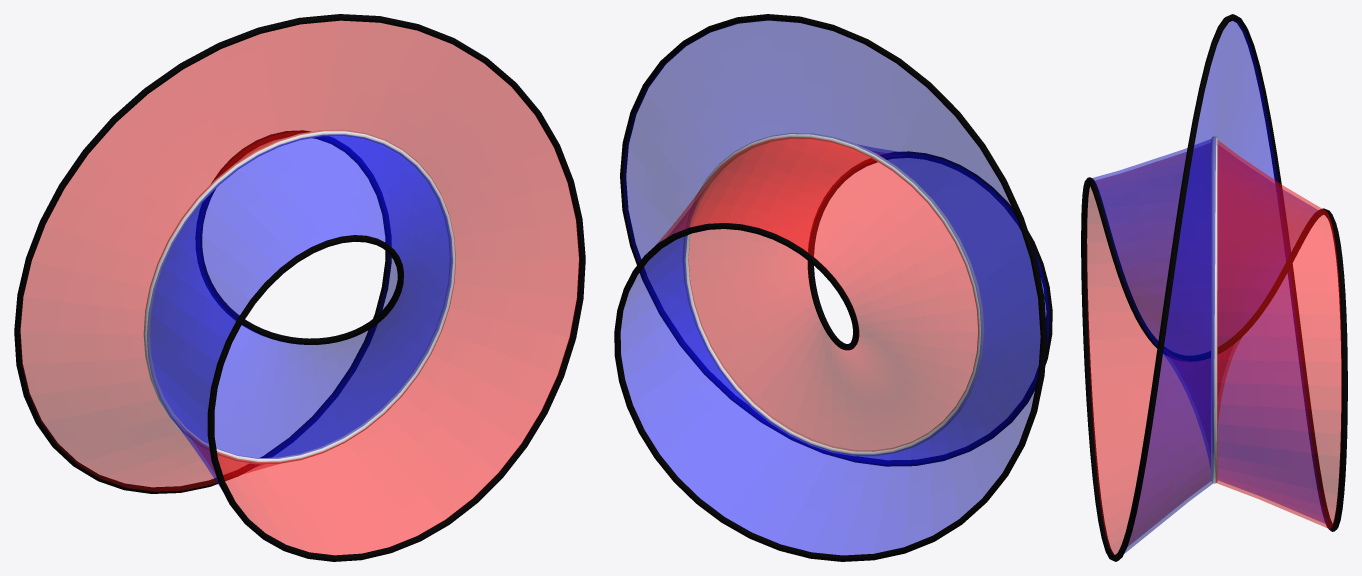
Rendered from l3_1_website.glb.
3 renders of one model, left to right at view 1: azimuth 30°, elevation 25°; view 2: azimuth 150°, elevation 25°; view 3: azimuth 270°, elevation 25°, orthographic. The views are drawn at different scales.
Visible parts, largest first — view 1: l3_1, boundary, singular_locus; view 2: l3_1, boundary, singular_locus; view 3: l3_1, boundary, singular_locus.
Boxes of the visible parts, box(x1,y1,x2,y2) form: l3_1: box(20, 20, 579, 555); boundary: box(14, 14, 585, 561); singular_locus: box(143, 129, 455, 464); l3_1: box(620, 20, 1049, 555); boundary: box(614, 14, 1052, 561); singular_locus: box(682, 133, 984, 456); l3_1: box(1086, 20, 1341, 554); boundary: box(1081, 14, 1347, 561); singular_locus: box(1211, 136, 1217, 483).
Bounding box in the file's own units: 171 × 163 × 81.44.
